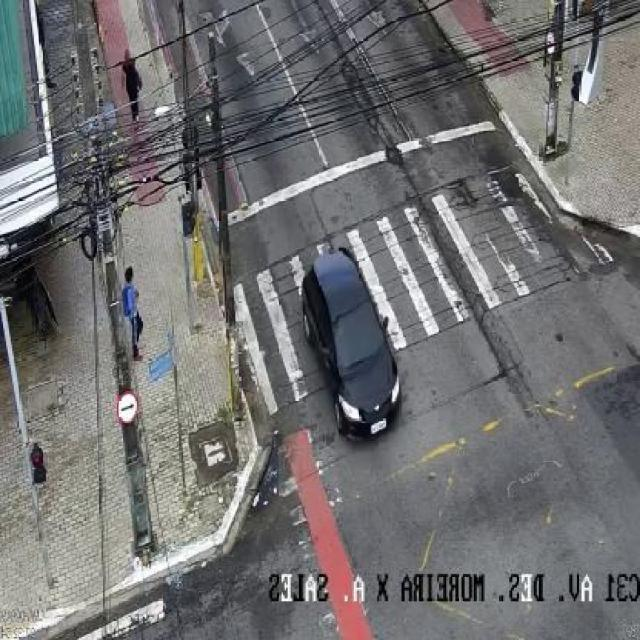Car: (299, 250, 405, 449)
